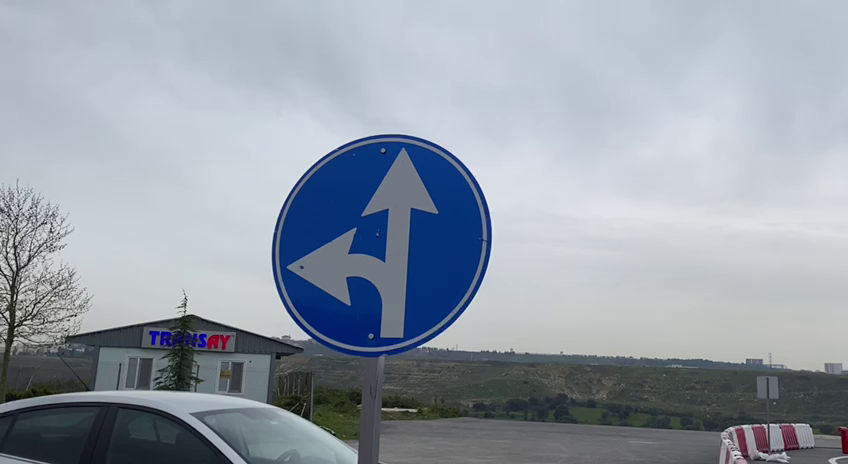forwardAndLeft: (269, 133, 496, 357)
